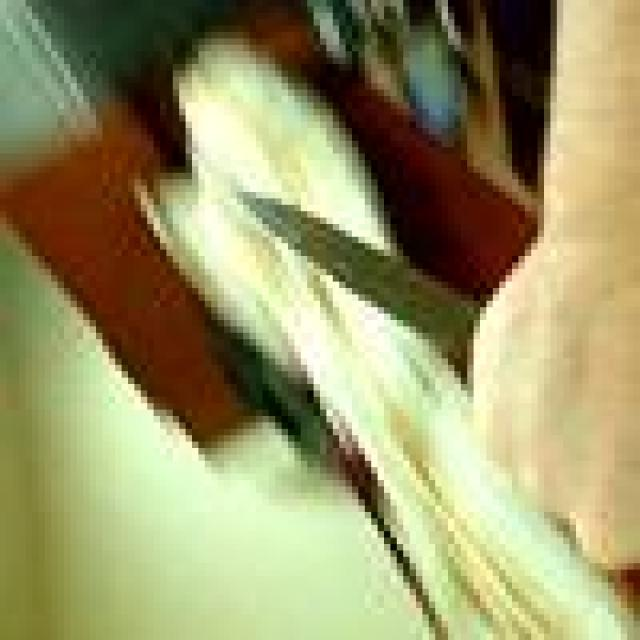knife: (237, 190, 473, 380)
